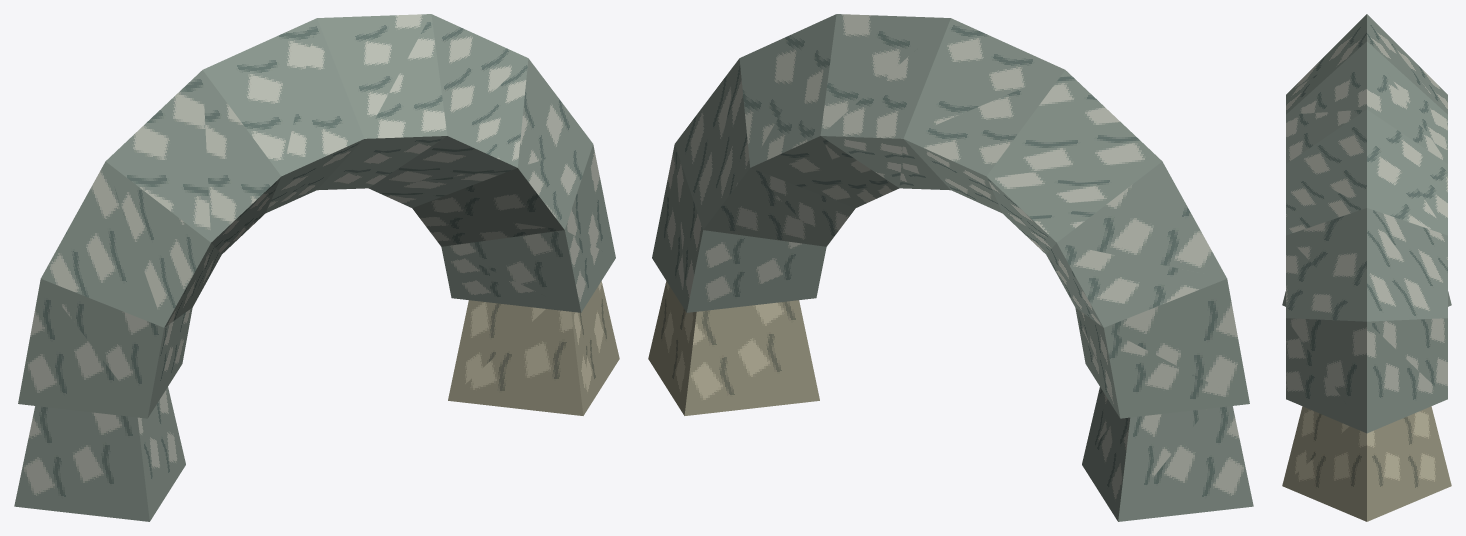
The model's file is pedra-arco-v01.gltf.
The picture shows the model from 3 angles, left to right: view 1: azimuth 30°, elevation 25°; view 2: azimuth 150°, elevation 25°; view 3: azimuth 270°, elevation 25°; orthographic projection. The views are drawn at different scales.
Parts seen in each view (by area): view 1: forma, rocha; view 2: forma, rocha; view 3: forma, rocha.
Part boxes in pixels (bbox=[...]): forma: bbox=[18, 14, 615, 418]; rocha: bbox=[14, 281, 619, 521]; forma: bbox=[652, 14, 1249, 418]; rocha: bbox=[648, 281, 1253, 521]; forma: bbox=[1286, 14, 1447, 433]; rocha: bbox=[1282, 291, 1451, 521].
Bounding box in the file's own units: 1.62 × 1.06 × 0.46.
Materials: 1 (1 with a texture image).
